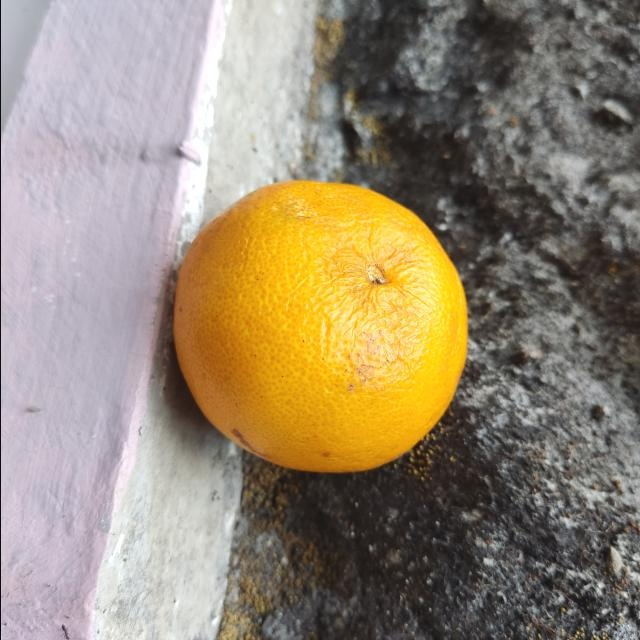agrume: (170, 175, 470, 477)
